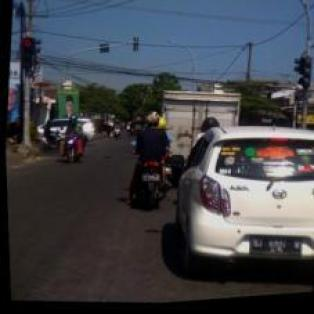Semoforo Rojo: (21, 36, 36, 71)
